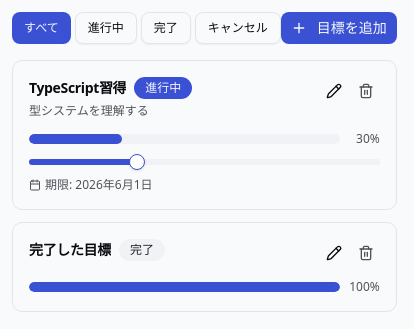
Scenario: GoalList › 完了フィルタで完了した目標のみ表示される
Click the button "完了" at (166, 28), box left=141, top=12, right=191, bottom=44
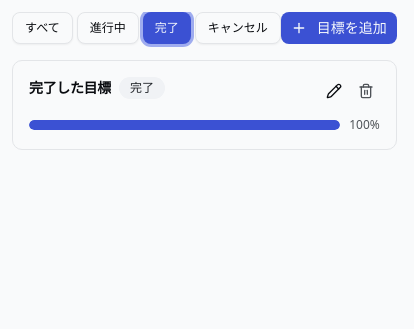
Expected: the heading "完了した目標" is shown, left=29, top=78, right=111, bottom=98
Expected: the heading "TypeScript習得" is gone
